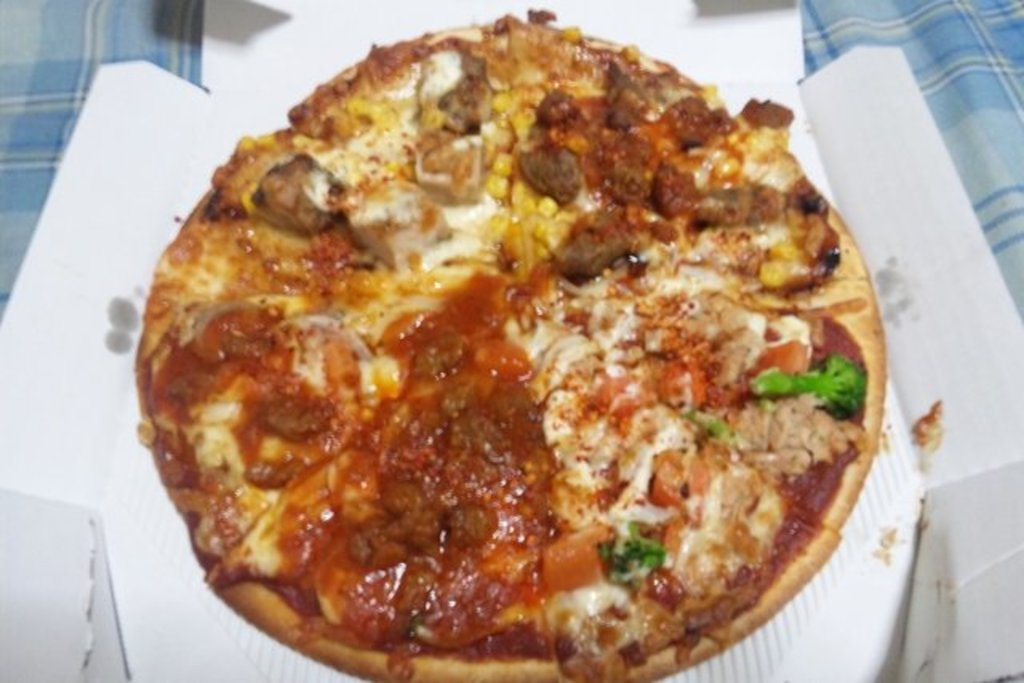Pizza: (132, 4, 884, 681)
